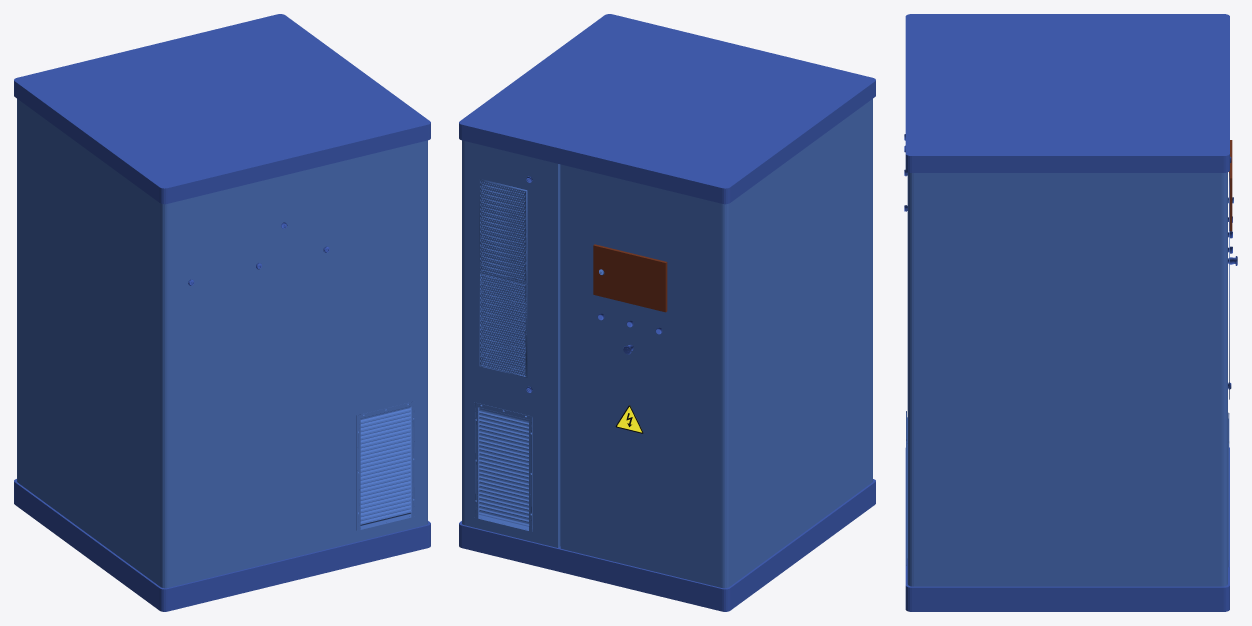
3 renders of one model, left to right at view 1: azimuth 30°, elevation 25°; view 2: azimuth 150°, elevation 25°; view 3: azimuth 270°, elevation 25°, orthographic. The views are drawn at different scales.
Visible parts, largest first — view 1: Cube.002, Cube, Cube.001, 3d66_Editable_mesh_21797354_117.003; view 2: Cube.002, Cube, Cube.001, 3d66_Editable_mesh_21797354_285.003, 3d66_Editable_mesh_21797354_118.003, Cube.017; view 3: Cube.002, Cube, Cube.001.
Boxes of the visible parts, x1,y1,x2,y2 form: Cube.002: (17, 99, 427, 588); Cube: (14, 14, 430, 204); Cube.001: (14, 479, 430, 611); 3d66_Editable_mesh_21797354_117.003: (357, 401, 414, 530); Cube.002: (462, 99, 872, 588); Cube: (459, 14, 875, 204); Cube.001: (459, 479, 875, 611); 3d66_Editable_mesh_21797354_285.003: (479, 179, 527, 377); 3d66_Editable_mesh_21797354_118.003: (474, 402, 532, 531); Cube.017: (593, 244, 667, 312); Cube.002: (907, 172, 1227, 586); Cube: (905, 14, 1229, 172); Cube.001: (905, 447, 1229, 611).
Bounding box in the file's own units: 0.7935 × 1.19 × 0.7868.
